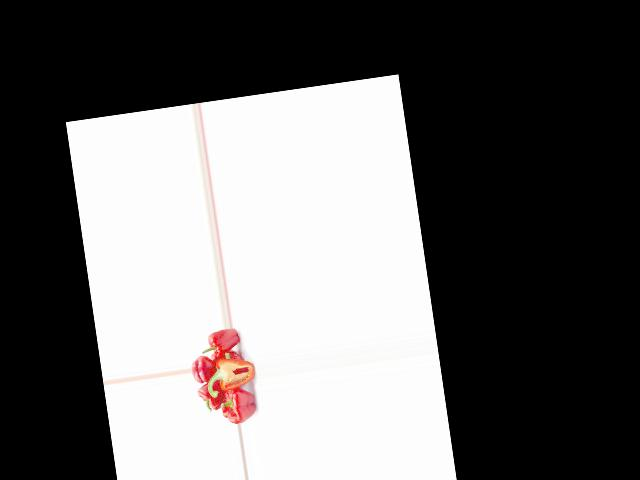bell_pepper: (196, 380, 224, 413)
